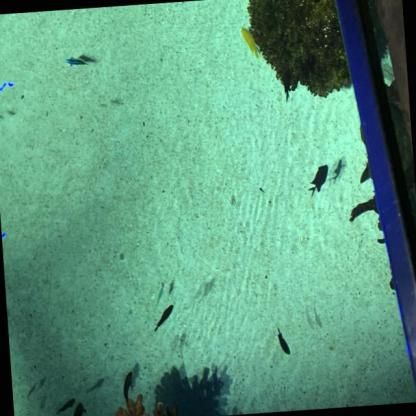fish: (306, 161, 330, 198), (151, 303, 177, 334), (240, 25, 260, 60), (119, 368, 136, 409), (274, 326, 293, 359), (55, 394, 76, 416), (65, 53, 88, 71), (70, 401, 90, 415), (154, 284, 164, 306)
